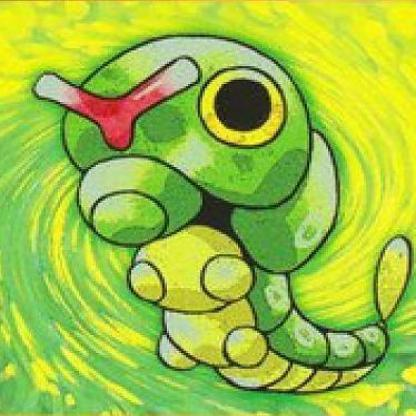Caterpie: (18, 18, 416, 397)
